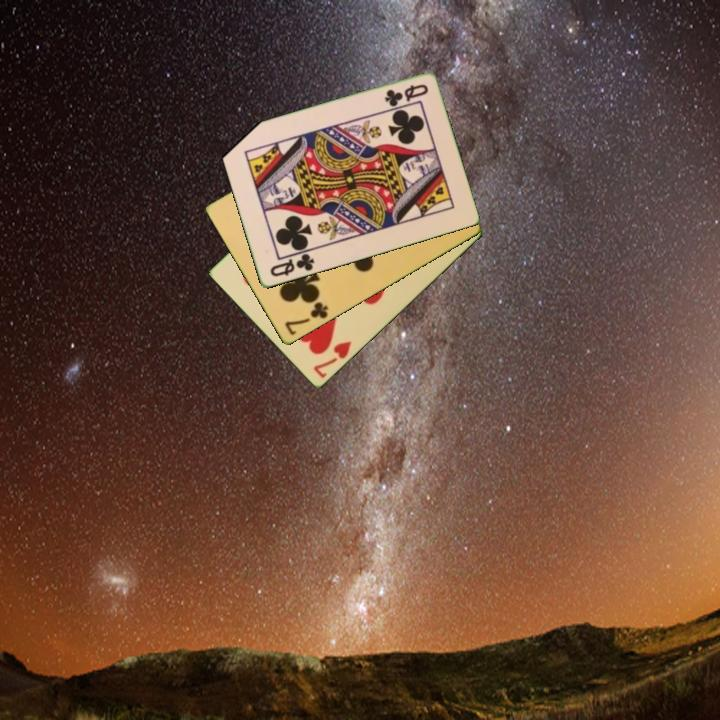7c: (281, 299, 331, 338)
7h: (310, 338, 354, 381)
Qc: (266, 250, 317, 280), (381, 81, 431, 109)
